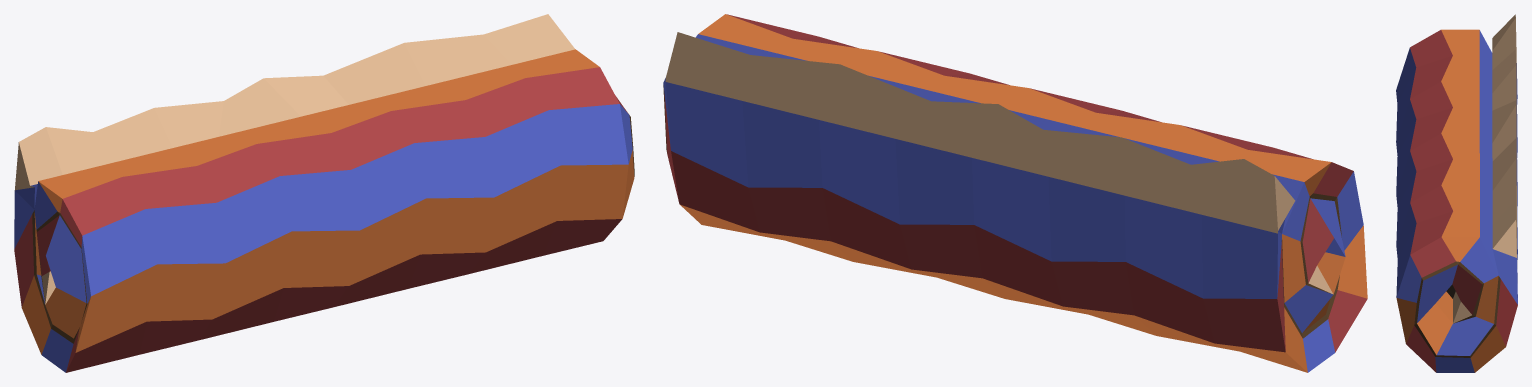
The model's file is carpet_roll.fbx.
3 views of the same model, side by side, from view 1: azimuth 30°, elevation 25°; view 2: azimuth 150°, elevation 25°; view 3: azimuth 270°, elevation 25° (orthographic). The views are drawn at different scales.
Parts seen in each view (by area): view 1: carpet_rool; view 2: carpet_rool; view 3: carpet_rool.
Part boxes in pixels (<box>): carpet_rool: <box>14,14,634,372</box>; carpet_rool: <box>663,14,1367,372</box>; carpet_rool: <box>1396,14,1517,372</box>.
Bounding box in the file's own units: 1.48 × 0.5107 × 0.3494.
